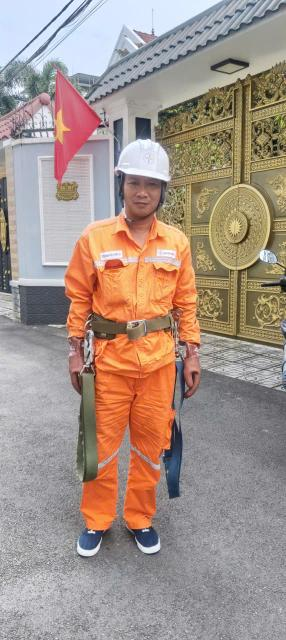gloves: (57, 323, 93, 394), (179, 337, 216, 396)
harness: (73, 306, 189, 338)
helmet: (102, 138, 182, 197)
shoes: (120, 511, 188, 562), (66, 506, 112, 574)
